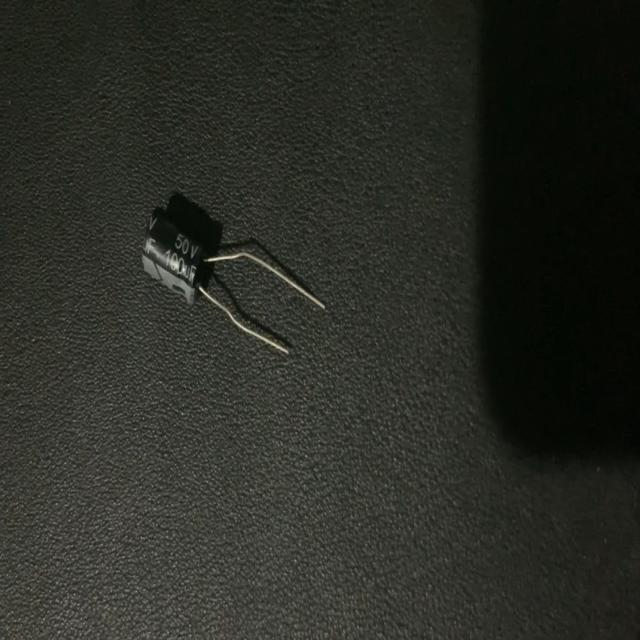capacitor: (140, 206, 325, 359)
